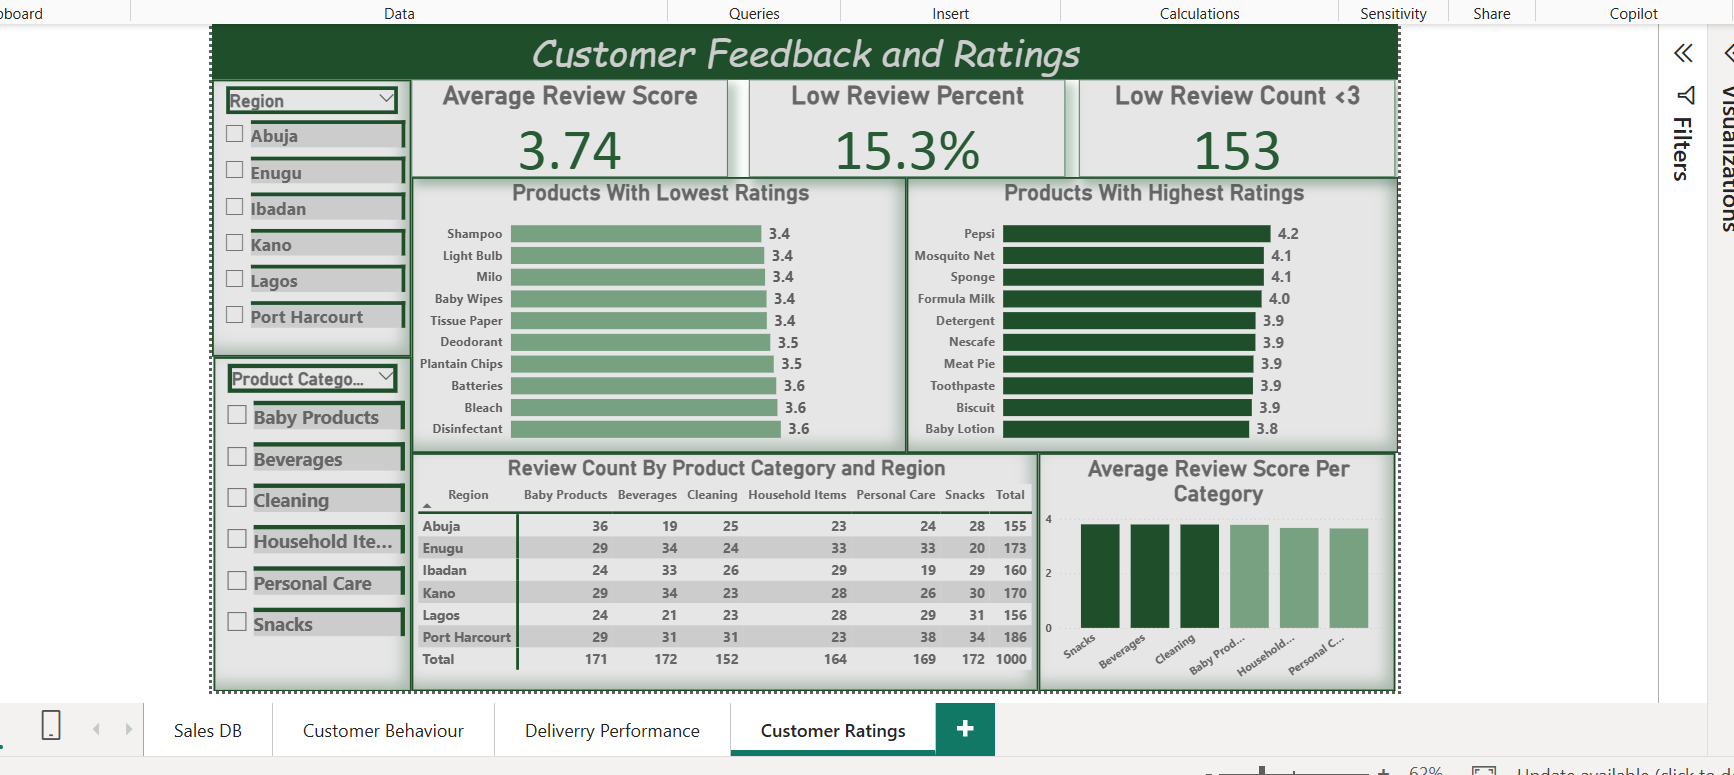

The page's visual inventory and layout, read from the dashboard file:
{"tool":"powerbi","page":{"name":"Customer Ratings","canvas":[1280,720],"ordinal":3},"visuals":[{"type":"columnChart","title":"Average Review Score Per Category","fields":{"Y":["Sheet1.Average Review Score"],"Category":["Sheet1.Product Category"]},"box":[892.2,463.1,385.4,257.5],"z":0},{"type":"shape","box":[0,0,1280.8,59.9],"z":1000},{"type":"pivotTable","title":"Review Count By Product Category and Region","fields":{"Rows":["Sheet1.Region"],"Columns":["Sheet1.Product Category"],"Values":["Sheet1.Review Count"]},"box":[215.4,463.1,676.8,257.5],"z":2000},{"type":"barChart","title":"Products With Lowest Ratings","fields":{"Category":["Sheet1.Product Name"],"Y":["Sheet1.Average Review Score"]},"box":[215.4,165.2,534.3,297.9],"z":3000},{"type":"barChart","title":"Products With Highest Ratings","fields":{"Y":["Sheet1.Average Review Score"],"Category":["Sheet1.Product Name"]},"box":[749.7,165.2,531.1,297.9],"z":4000},{"type":"card","title":"Low Review Count <3","fields":{"Values":["Sheet1.Low Review Count"]},"box":[935.9,59.9,341.7,105.2],"z":5000},{"type":"card","title":"Average Review Score","fields":{"Values":["Avg(Sheet1.Review Score)"]},"box":[215.4,59.9,341.7,105.2],"z":6000},{"type":"card","title":"Low Review Percent","fields":{"Values":["Sheet1.Low Review %"]},"box":[579.7,59.9,341.7,105.2],"z":7000},{"type":"slicer","fields":{"Values":["Sheet1.Region"]},"box":[0,59.9,215.4,299.6],"z":8000},{"type":"slicer","fields":{"Values":["Sheet1.Product Category"]},"box":[1.6,359.5,213.7,361.1],"z":9000}]}

Visuals, with their boxes on the page's 1280x720 design canvas (x1, y1, x2, y2). These are canvas units, not pixel positions in the 1734x775 screenshot, which may show the page scaled, cropped or inside an application window:
"Average Review Score Per Category" columnChart: region(892, 463, 1278, 721)
shape: region(0, 0, 1281, 60)
"Review Count By Product Category and Region" pivotTable: region(215, 463, 892, 721)
"Products With Lowest Ratings" barChart: region(215, 165, 750, 463)
"Products With Highest Ratings" barChart: region(750, 165, 1281, 463)
"Low Review Count <3" card: region(936, 60, 1278, 165)
"Average Review Score" card: region(215, 60, 557, 165)
"Low Review Percent" card: region(580, 60, 921, 165)
slicer - Sheet1.Region: region(0, 60, 215, 360)
slicer - Sheet1.Product Category: region(2, 360, 215, 721)
